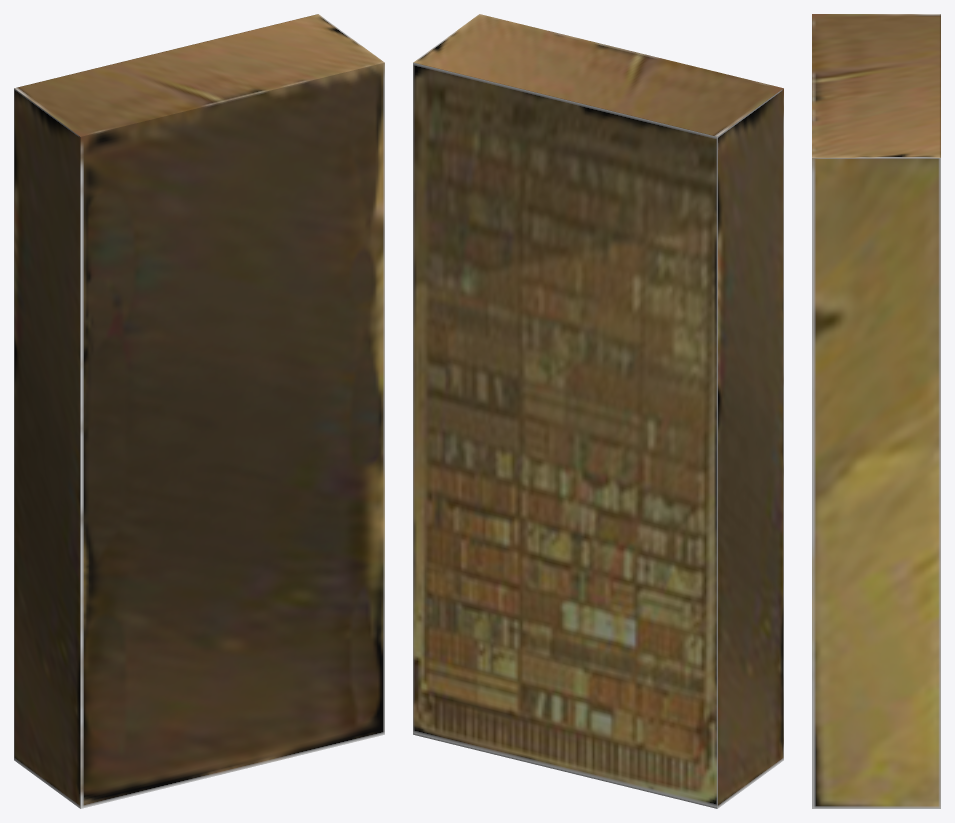
3 views of the same model, side by side, from view 1: azimuth 30°, elevation 25°; view 2: azimuth 150°, elevation 25°; view 3: azimuth 270°, elevation 25° (orthographic). The views are drawn at different scales.
Visible parts, largest first — view 1: 책장4; view 2: 책장4; view 3: 책장4.
Boxes of the visible parts, x1=… form: 책장4: x1=14, y1=14, x2=384, y2=808; 책장4: x1=413, y1=14, x2=783, y2=808; 책장4: x1=812, y1=14, x2=940, y2=808.
Bounding box in the file's own units: 28.43 × 59.98 × 10.75.
